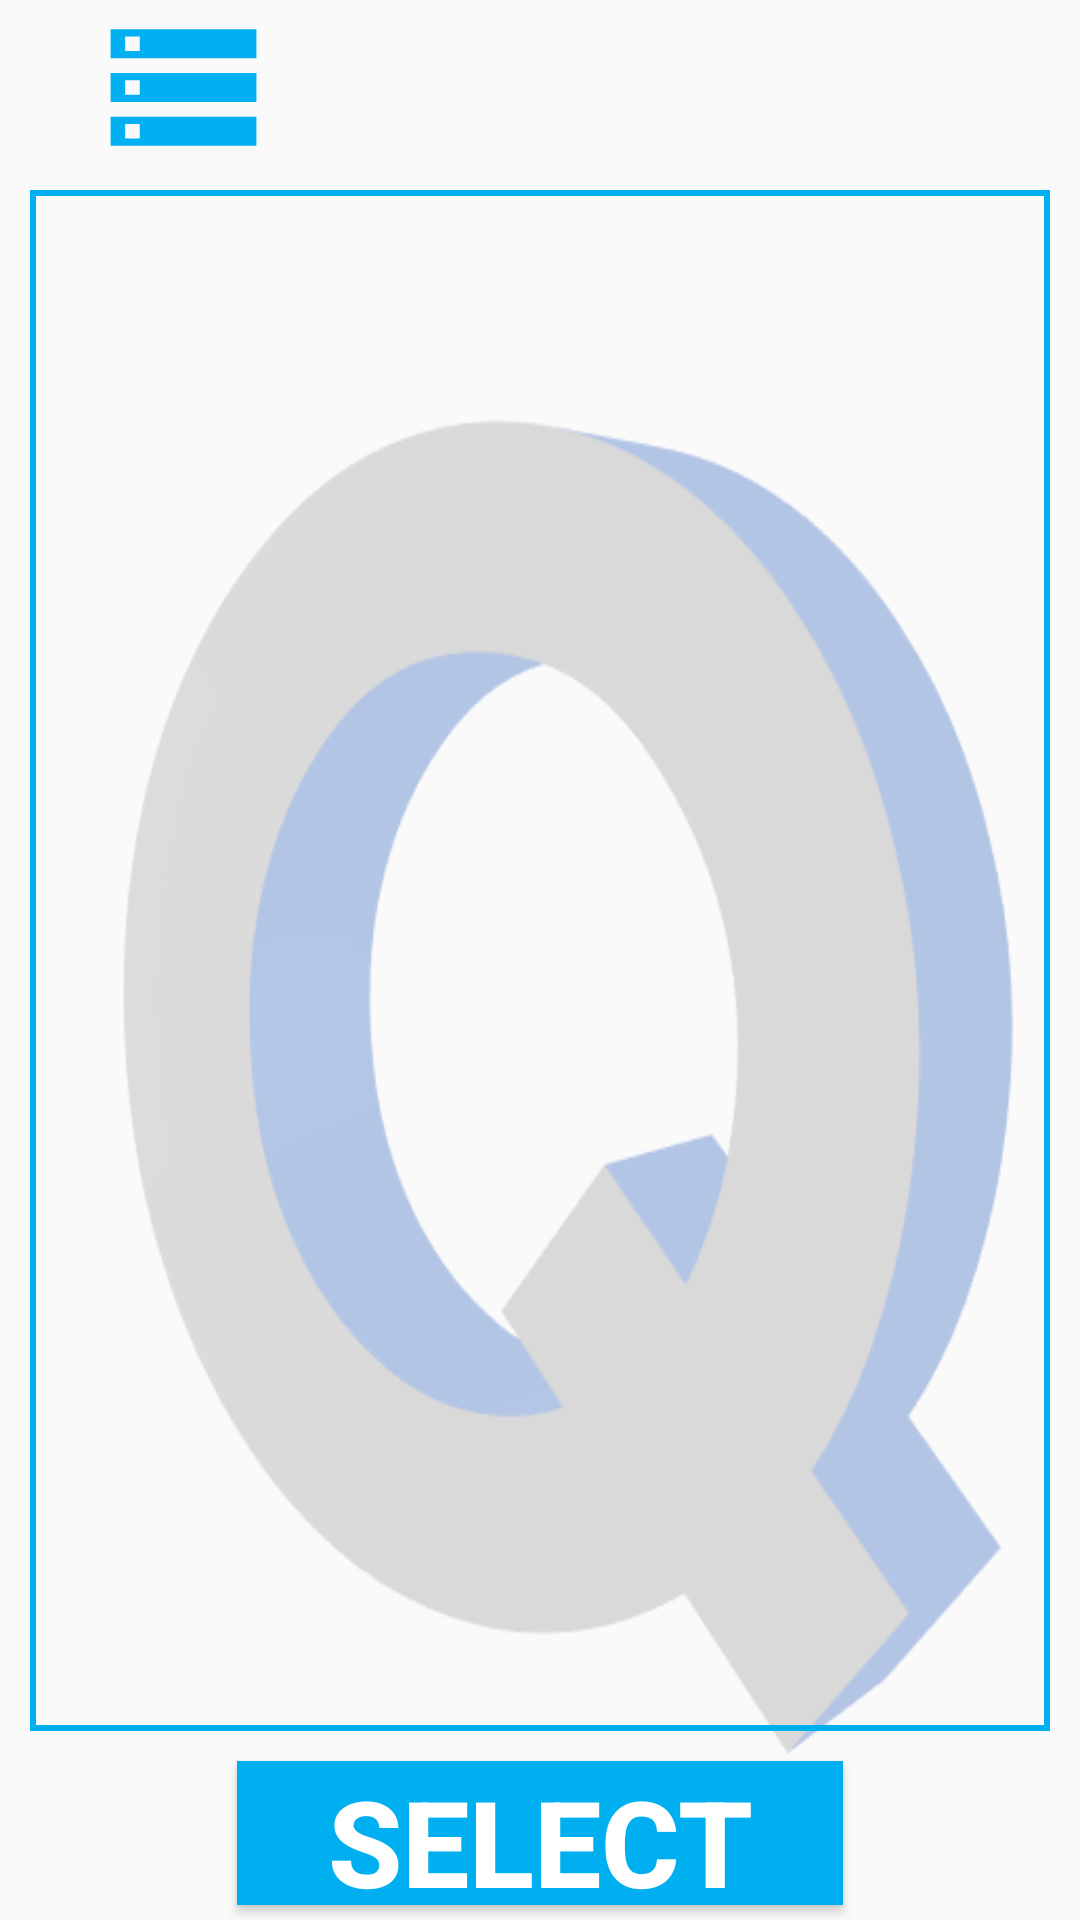

Locate icon controls on the screen. Image size 1080×1920, boxes as (x1, y1, x2, y2).
storage: (110, 29, 257, 146)
